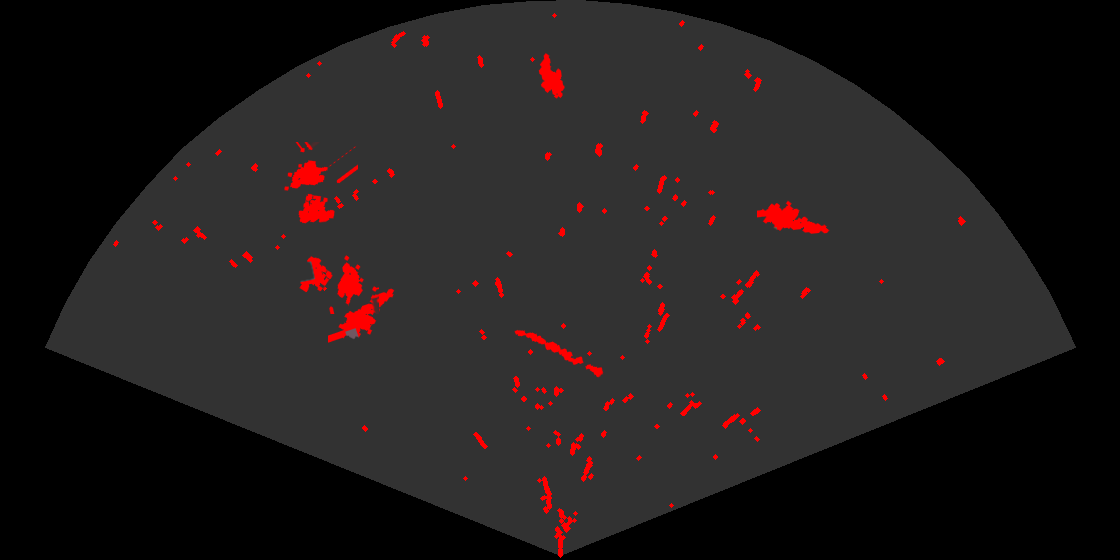AUV: (537, 52, 566, 100)
cage: (283, 142, 358, 225), (298, 254, 379, 314)
chain: (513, 328, 605, 379)
frogman: (328, 287, 396, 344), (757, 199, 830, 235)
